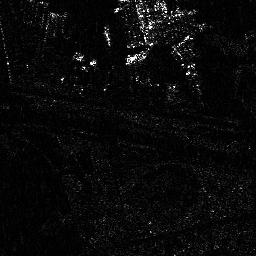ship: (102, 25, 112, 48)
